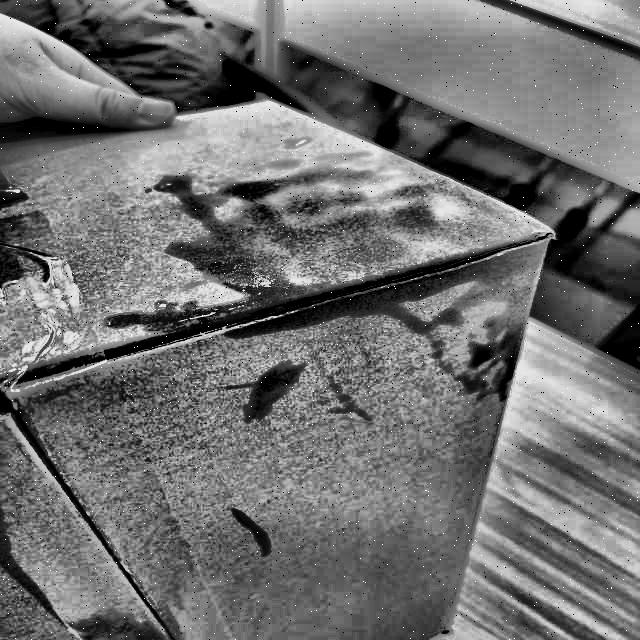box: (0, 95, 553, 640)
wet: (147, 169, 545, 442)
